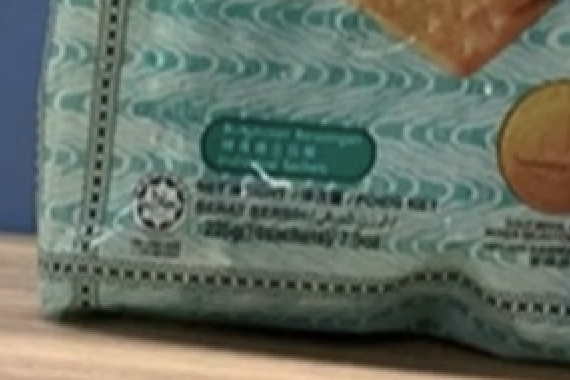halal: (142, 186, 178, 218)
